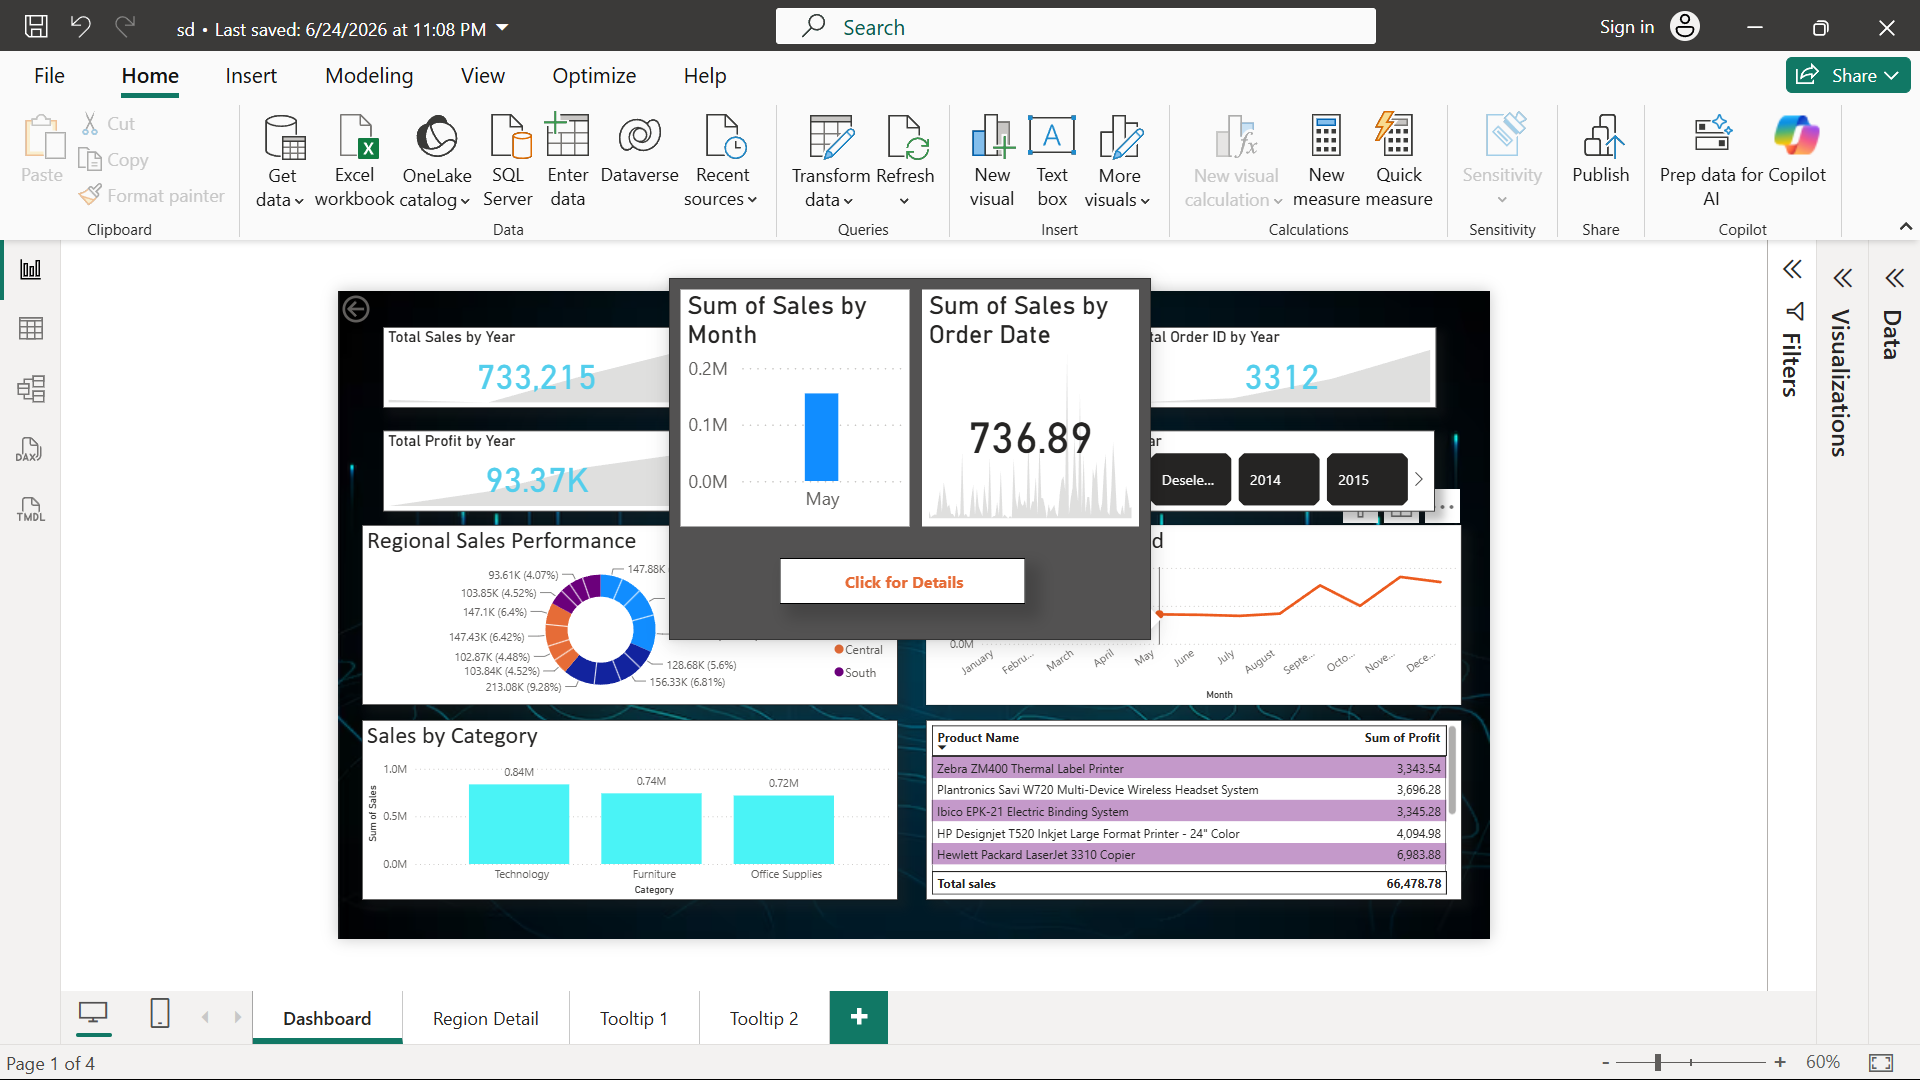

This screenshot's page, from the dashboard's own definition file:
{"tool":"powerbi","page":{"name":"Dashboard","canvas":[1280,720],"ordinal":0},"visuals":[{"type":"lineChart","title":"Monthly Revenue Trend","fields":{"Y":["Sum(Sample - Superstore.Sales)"],"Category":["Sample - Superstore.Order Date.Variation.Date Hierarchy.Month"]},"box":[653,260.6,595.5,200],"z":0},{"type":"columnChart","title":"Sales by Category","fields":{"Y":["Sum(Sample - Superstore.Sales)"],"Category":["Sample - Superstore.Category"]},"box":[27.3,477.3,595.5,200],"z":1000},{"type":"donutChart","title":"Regional Sales Performance","fields":{"Category":["Sample - Superstore.Region"],"Y":["Sum(Sample - Superstore.Sales)"],"Series":["Sample - Superstore.Year"]},"box":[27.3,260.4,595.1,199.9],"z":2000},{"type":"actionButton","box":[0,0,100,40],"z":3000},{"type":"tableEx","fields":{"Values":["Sample - Superstore.Product Name","Sum(Sample - Superstore.Profit)"]},"box":[653,477.3,595.5,200],"z":4000},{"type":"kpi","fields":{"Indicator":["Sum(Sample - Superstore.Sales)"],"TrendLine":["Sample - Superstore.Year"]},"box":[50,40,342.9,90],"z":5000},{"type":"kpi","fields":{"Indicator":["Sum(Sample - Superstore.Profit)"],"TrendLine":["Sample - Superstore.Year"]},"box":[50,155,343.3,90],"z":6000},{"type":"kpi","fields":{"Indicator":["CountNonNull(Sample - Superstore.Order ID)"],"TrendLine":["Sample - Superstore.Year"]},"box":[878.3,40,341.7,90],"z":7000},{"type":"advancedSlicerVisual","fields":{"Values":["Sample - Superstore.Year"]},"box":[876.7,155,341.7,90],"z":8000},{"type":"textbox","box":[443.3,56.7,381.7,55],"z":9000}]}

Visuals, with their boxes on the page's 1280x720 design canvas (x1, y1, x2, y2). These are canvas units, not pixel positions in the 1920x1080 screenshot, which may show the page scaled, cropped or inside an application window:
"Monthly Revenue Trend" lineChart: left=653, top=261, right=1248, bottom=461
"Sales by Category" columnChart: left=27, top=477, right=623, bottom=677
"Regional Sales Performance" donutChart: left=27, top=260, right=622, bottom=460
actionButton: left=0, top=0, right=100, bottom=40
tableEx - Sample - Superstore.Product Name x Sum(Sample - Superstore.Profit): left=653, top=477, right=1248, bottom=677
kpi - Sum(Sample - Superstore.Sales) x Sample - Superstore.Year: left=50, top=40, right=393, bottom=130
kpi - Sum(Sample - Superstore.Profit) x Sample - Superstore.Year: left=50, top=155, right=393, bottom=245
kpi - CountNonNull(Sample - Superstore.Order ID) x Sample - Superstore.Year: left=878, top=40, right=1220, bottom=130
advancedSlicerVisual - Sample - Superstore.Year: left=877, top=155, right=1218, bottom=245
textbox: left=443, top=57, right=825, bottom=112
